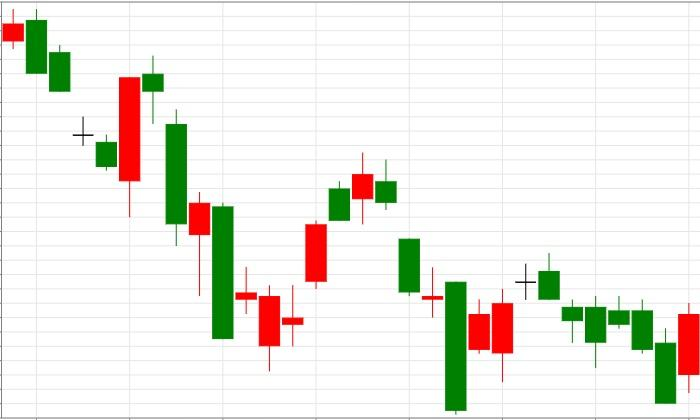bullish_engulfing_rise: (25, 8, 141, 217)
